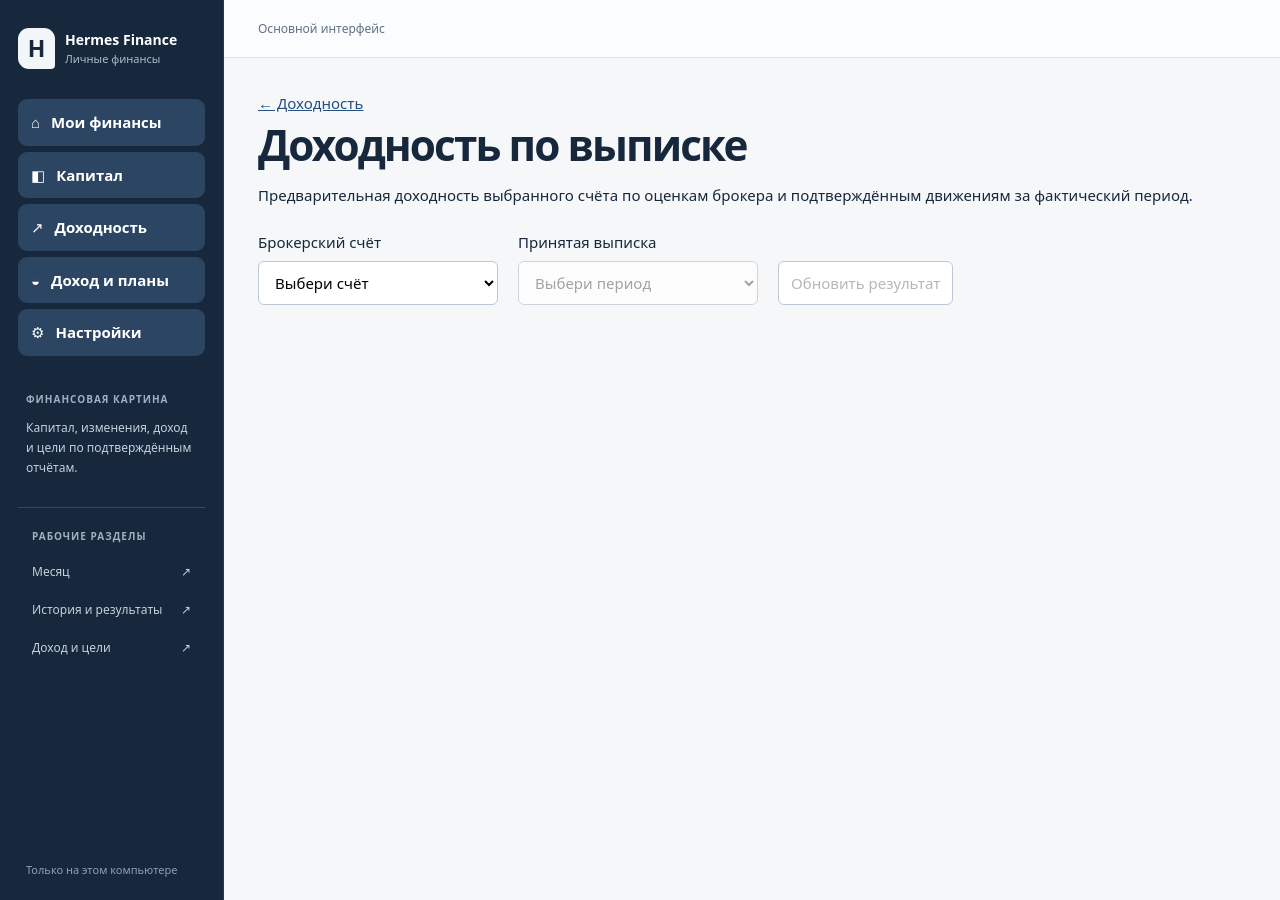
Test case: shows null with native facts and missing-flow reason, never guessed zero
Select "Synthetic A" in the dropdown labelled "Брокерский счёт" at x=378, y=283, box [258,261,498,305]
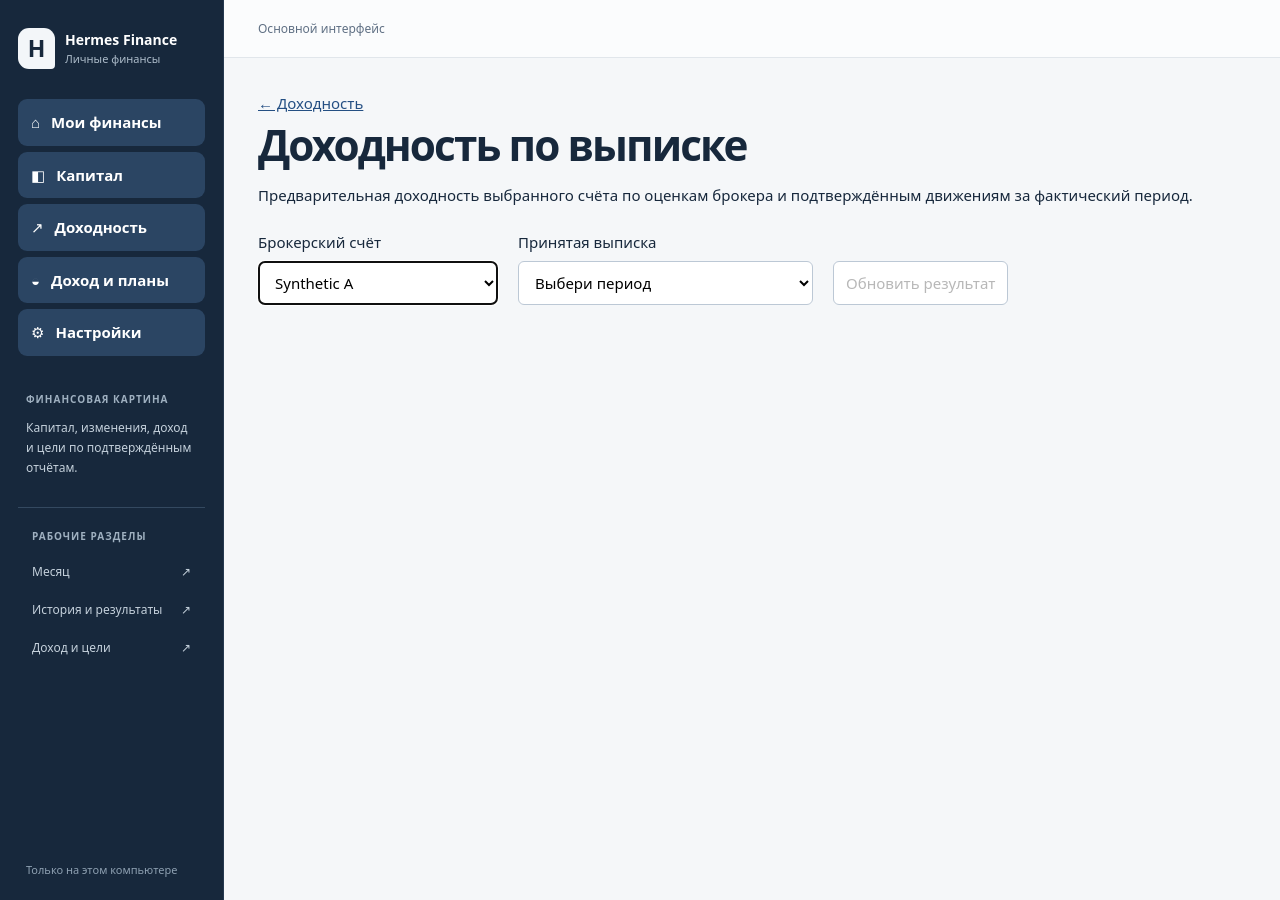
Now the dropdown labelled "Принятая выписка" is enabled
Select "31.08.2026 — 30.09.2026 · source-1" in the dropdown labelled "Принятая выписка" at x=666, y=283, box [518,261,813,305]
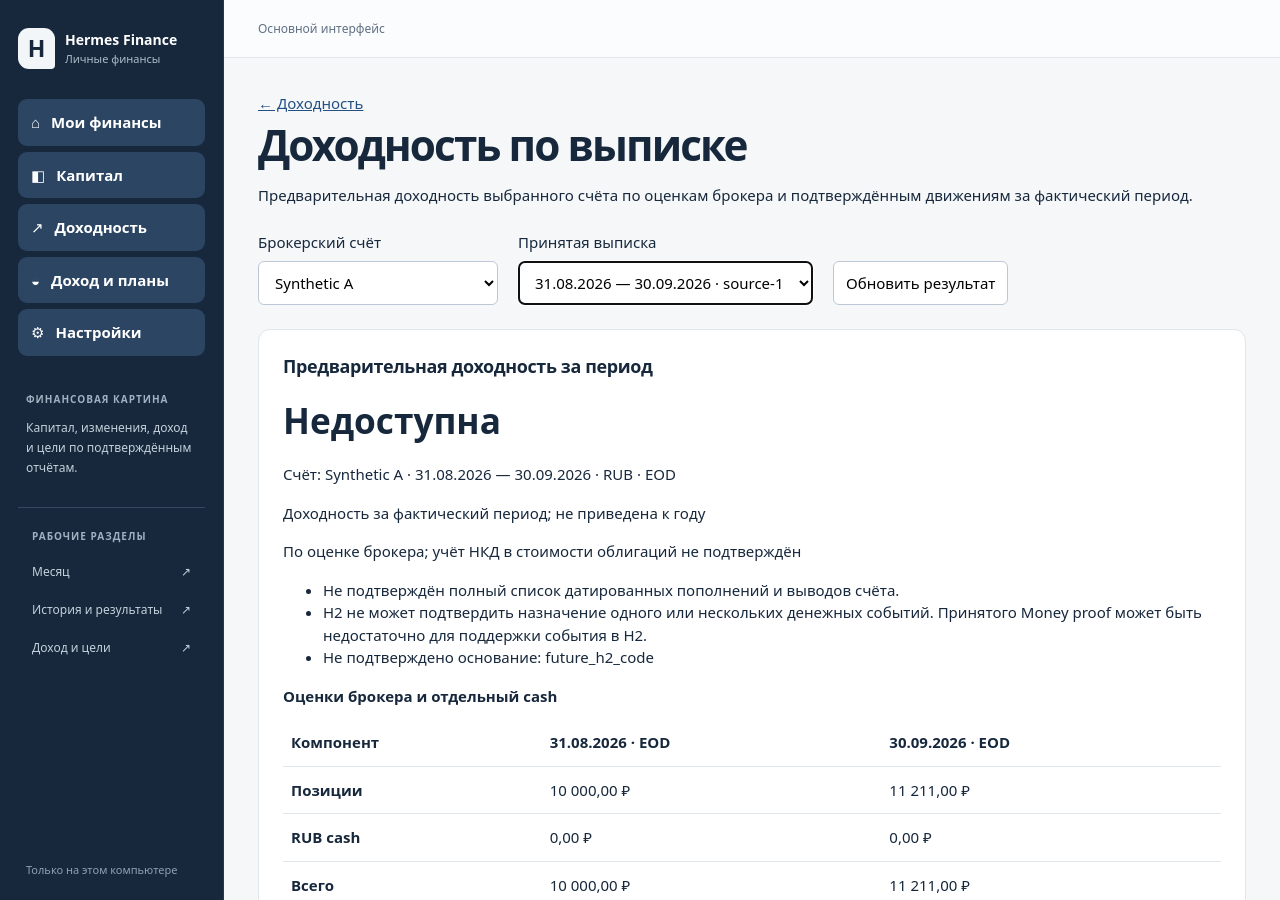
Now the text "Недоступна" is shown, box [283,396,501,444]
Now the list item "Не подтверждён полный список датированных пополнений и выводов счёта." is shown, box [323,580,899,600]
Now the list item "H2 не может подтвердить назначение" is shown, box [323,602,1202,645]
